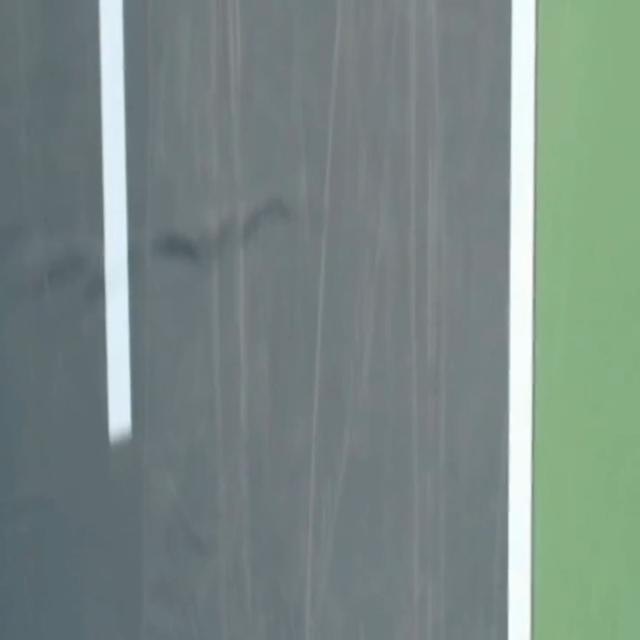center: (99, 0, 132, 444)
right: (508, 0, 535, 639)
